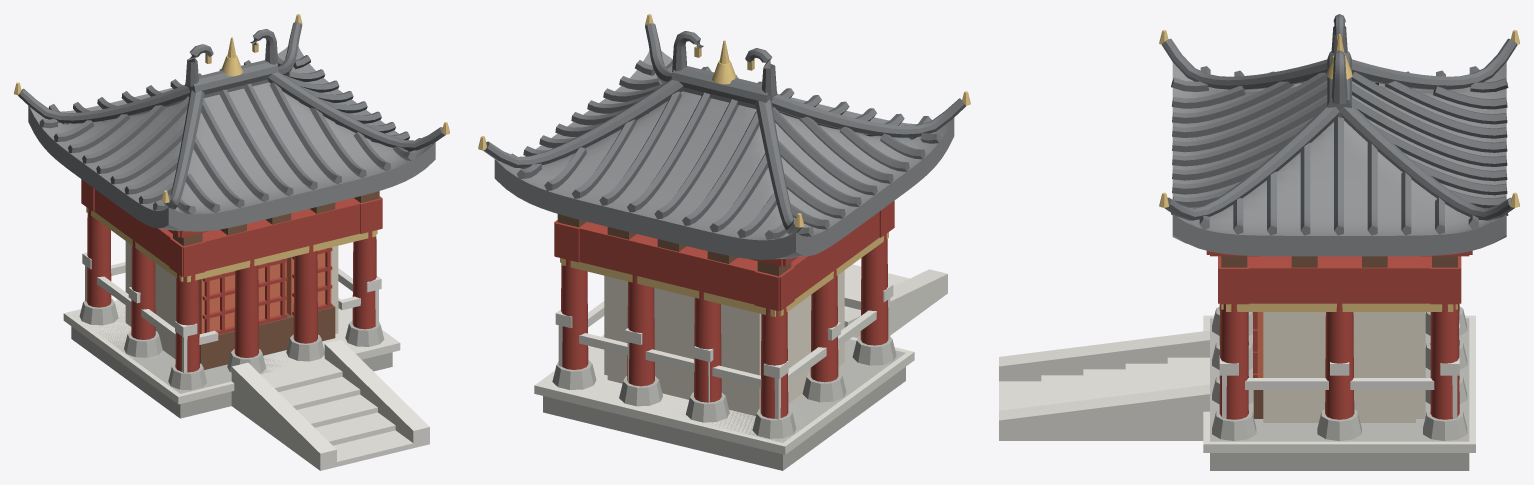
Rendered from SonMon_house.fbx.
3 views of the same model, side by side, from view 1: azimuth 30°, elevation 25°; view 2: azimuth 150°, elevation 25°; view 3: azimuth 270°, elevation 25° (orthographic). The views are drawn at different scales.
Visible parts, largest first — view 1: house; view 2: house; view 3: house.
Part boxes in pixels (x1,y1,x2,y2): house: [14, 14, 449, 470]; house: [478, 14, 970, 470]; house: [999, 14, 1519, 470].
Size of the model in its own units: 2.44 by 2.55 by 3.21.
